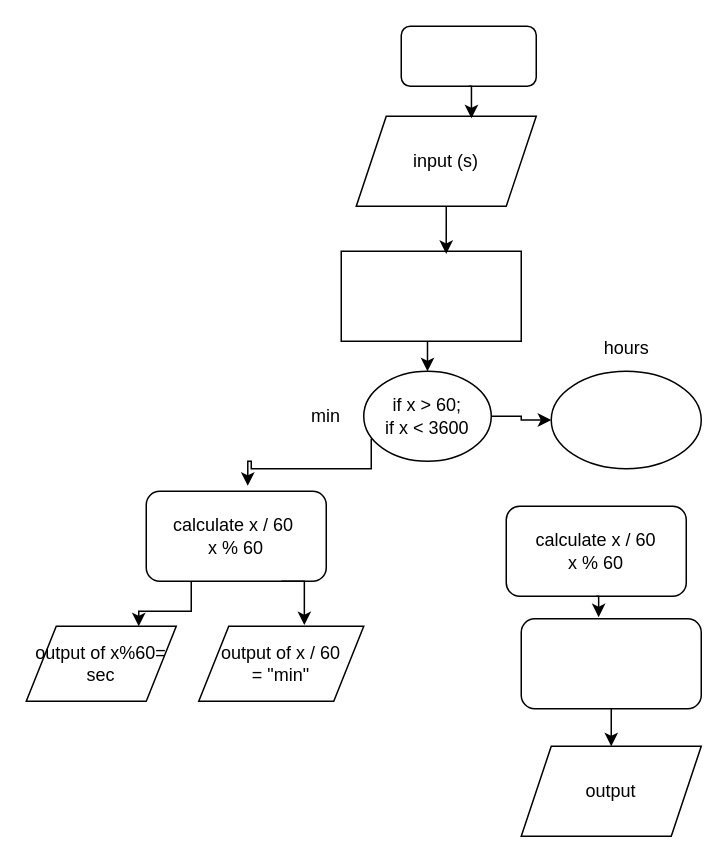
Some shapes in this 728 by 863 pixel diagram are drawn without their labels. Each missing label, with the box of its shape:
else if x > 3600; if x < 86400: (550, 370, 701, 469)
start: (400, 25, 536, 86)
user input = x: (340, 250, 521, 341)
value of x / 60 = hours: (520, 617, 701, 709)
